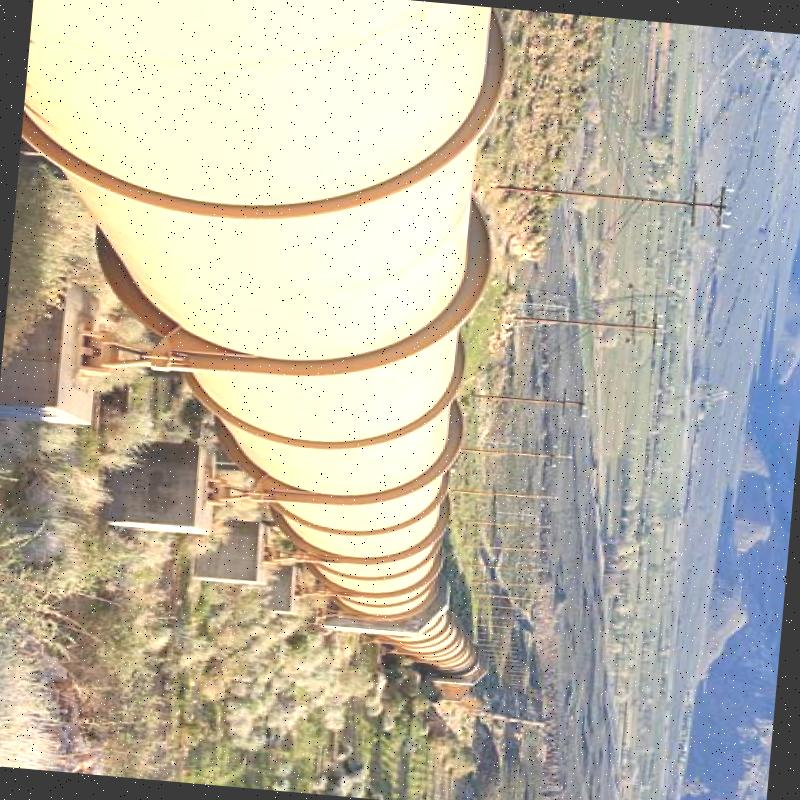Healthy: (0, 0, 515, 663)
